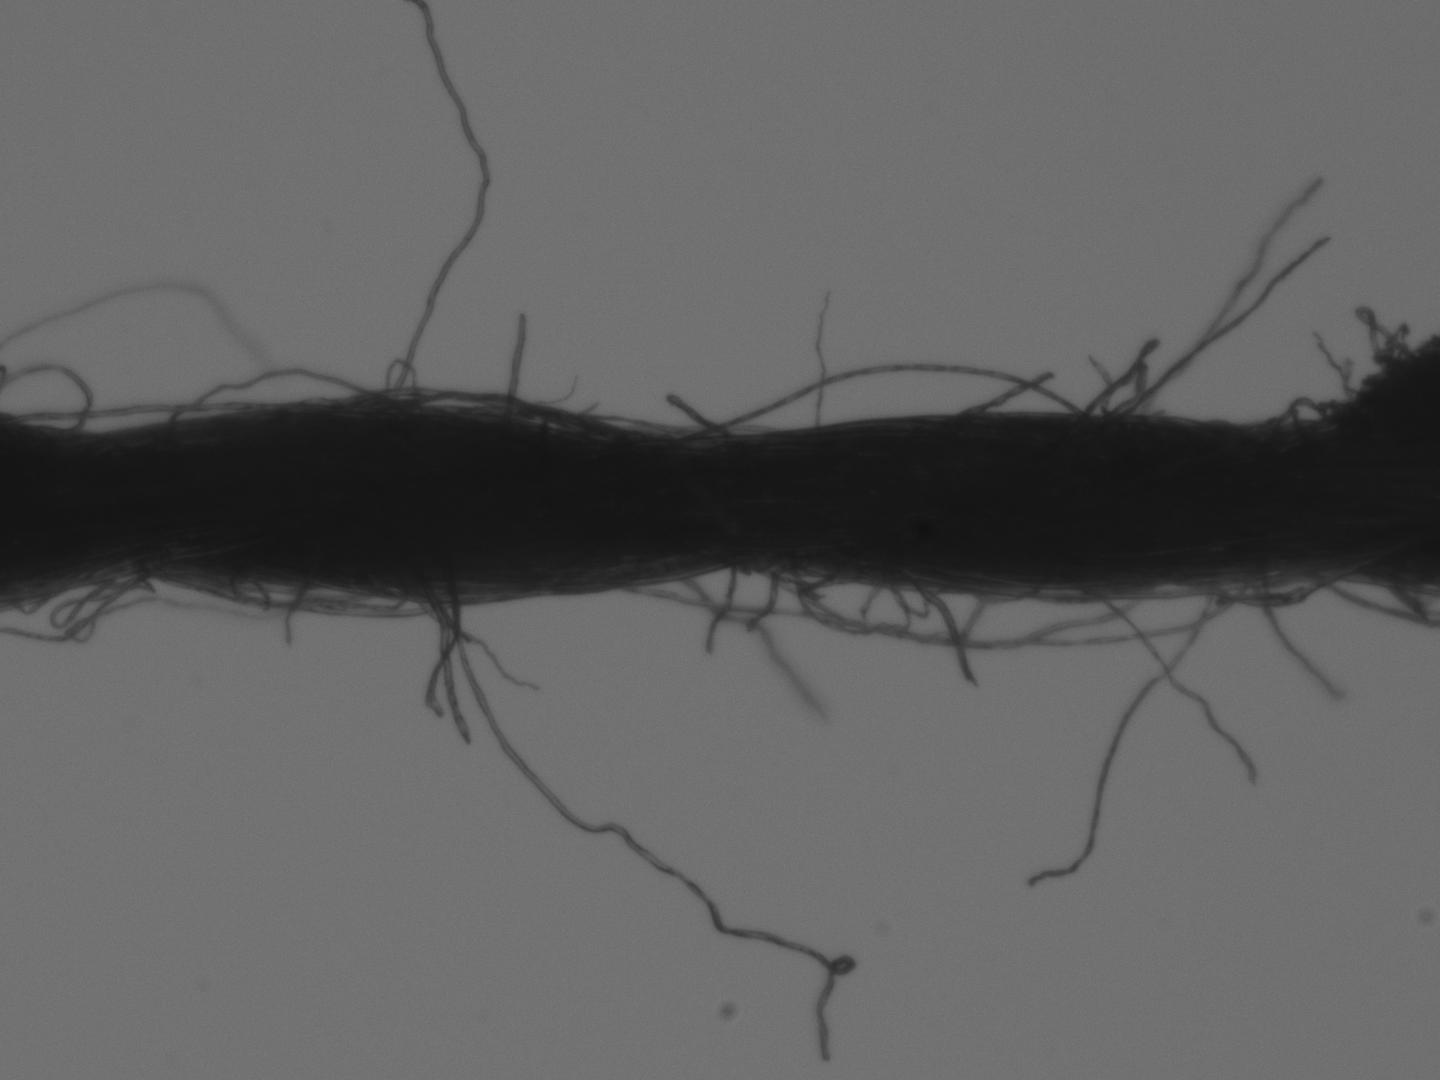loop_fiber: (680, 357, 1092, 442), (155, 574, 463, 624), (168, 363, 387, 423), (398, 386, 625, 430), (789, 568, 916, 642), (1186, 562, 1359, 609), (44, 576, 152, 648), (678, 562, 781, 632), (1359, 305, 1428, 400), (883, 573, 956, 622), (1260, 391, 1346, 428), (965, 575, 1051, 611), (384, 356, 425, 404)
protruding_fiber: (1089, 587, 1263, 786), (502, 310, 533, 414)
